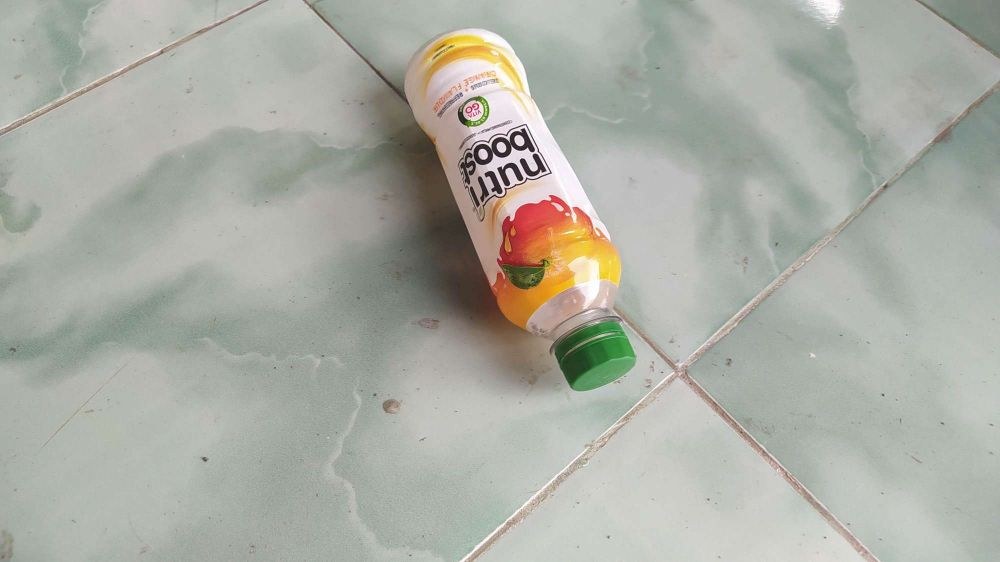botol: (386, 15, 658, 397)
